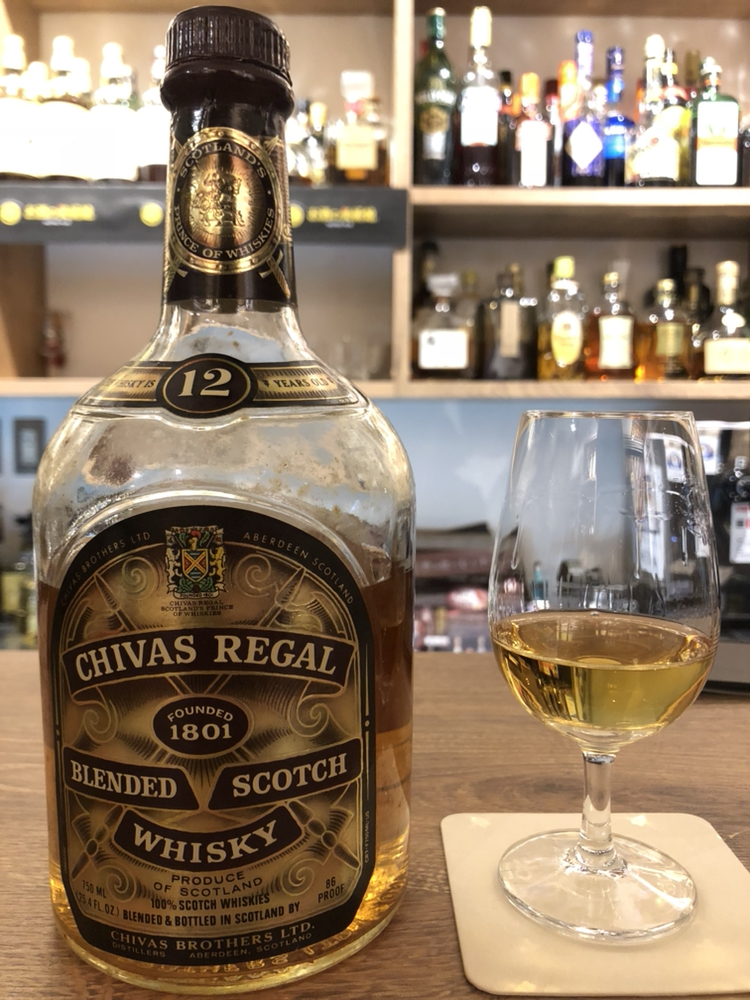Chivas Regal: (25, 5, 426, 997)
